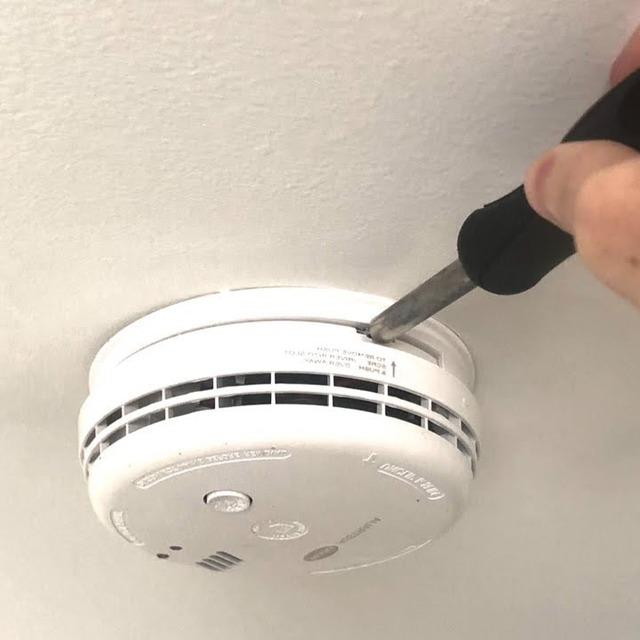Smoke-Detector: (86, 289, 482, 585)
